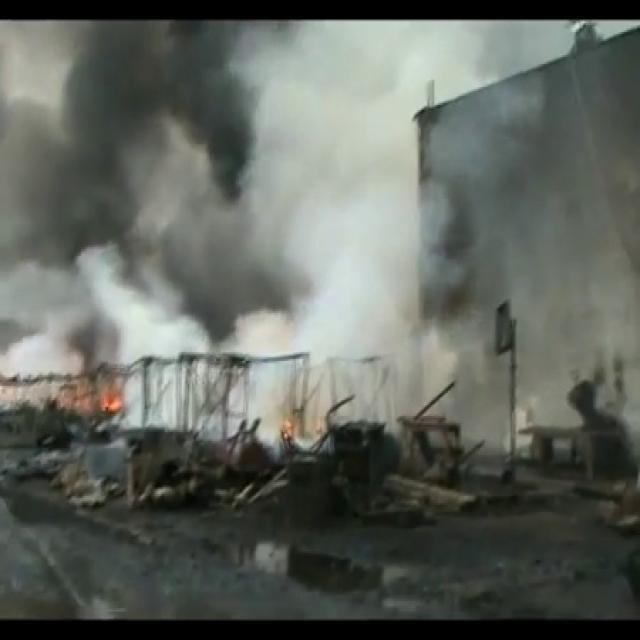Smoke: (330, 56, 640, 432), (1, 19, 302, 353)
